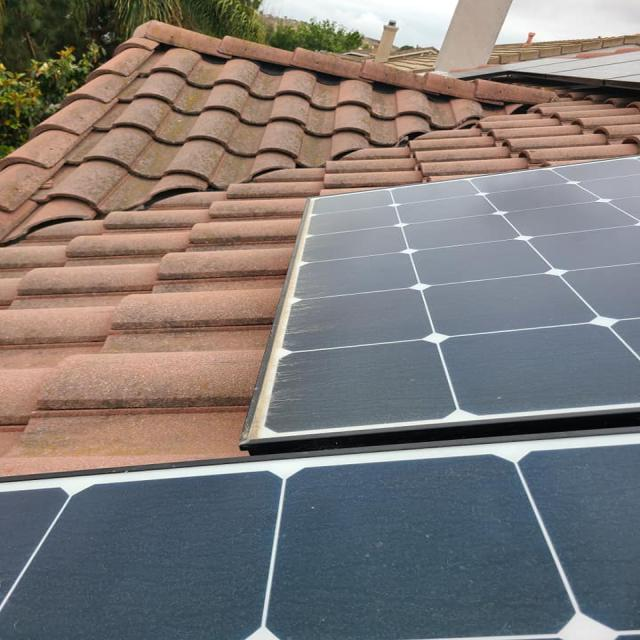dust-solar-panel: (0, 428, 640, 640), (240, 151, 640, 447)
